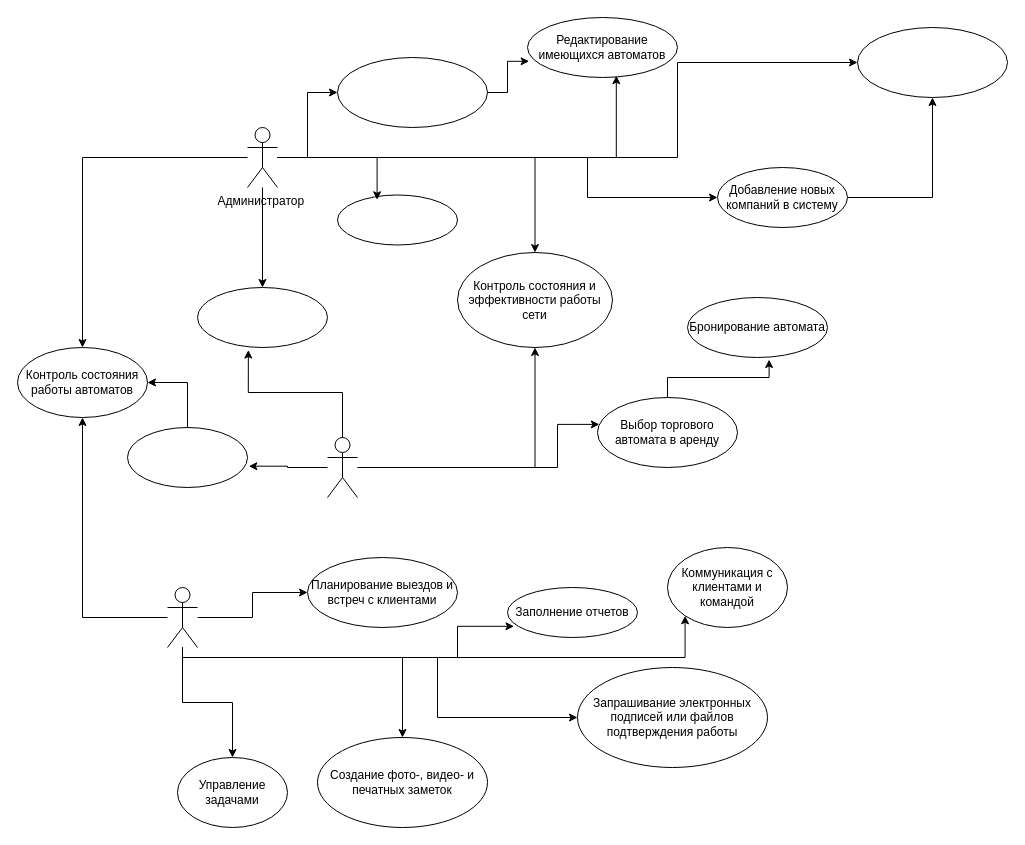
Image size: 1025x845. Some labels were removed from this diagram. Each missing label, with the centre of its shape:
Инженер: the point at 182,617
Клиент: the point at 342,467
Контроль арендованных автоматов: the point at 187,457
Работа с договорами: the point at 262,317
Работа с отчетами: the point at 397,219
Регистрирование новых автоматов: the point at 412,92
Редактирование информации имеющихся компаний: the point at 932,62
